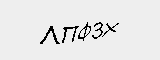З: (93, 20, 102, 41)
Л: (41, 24, 61, 47)
П: (60, 23, 76, 43)
Ф: (79, 19, 91, 43)
Х: (102, 17, 118, 38)
